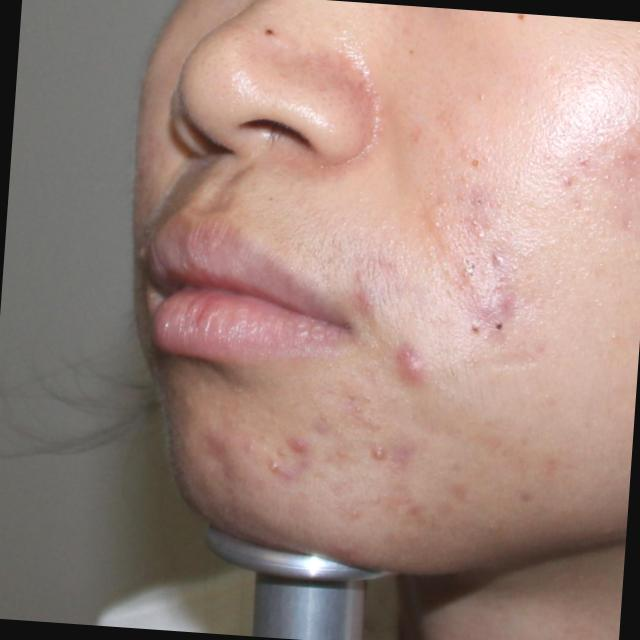blackhead: (470, 158, 480, 168), (264, 28, 274, 36), (516, 12, 524, 20), (472, 326, 478, 332), (408, 49, 414, 54), (496, 323, 501, 329)
nodule: (398, 356, 424, 382)
